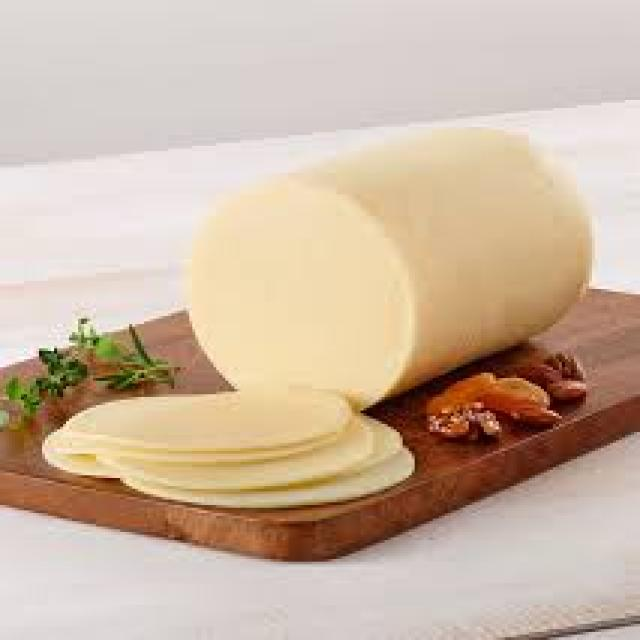cheese: (41, 389, 417, 507)
